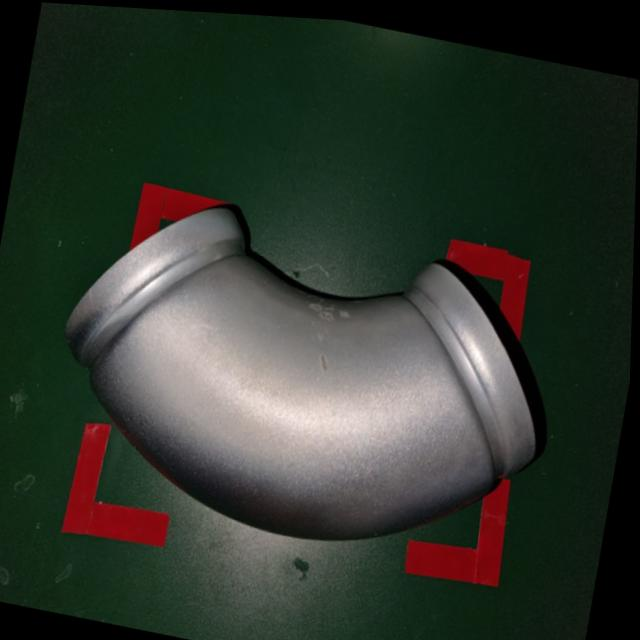Defect: (35, 171, 574, 582)
Hole: (280, 277, 369, 378)
